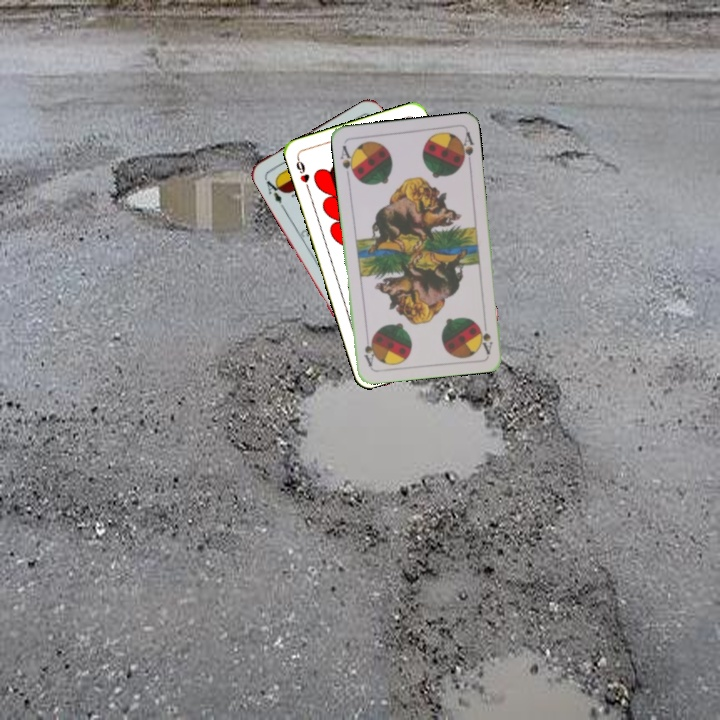EA: (261, 174, 287, 210)
H9: (292, 154, 312, 193)
SA: (336, 141, 358, 181), (476, 315, 495, 356)
